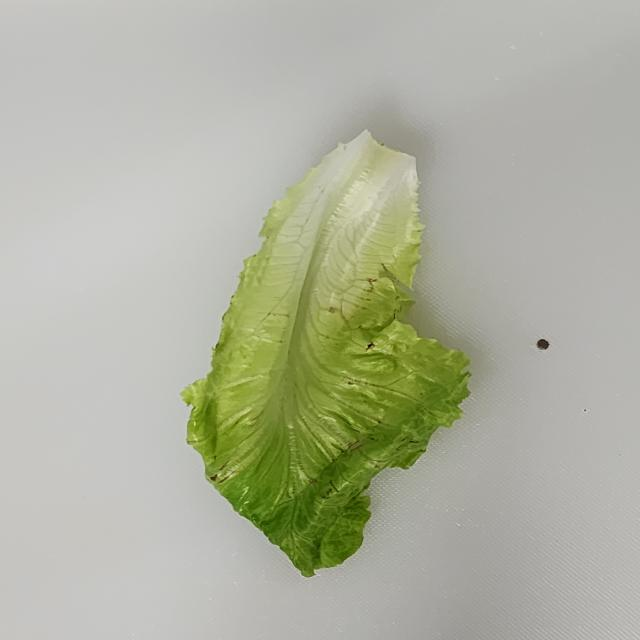lettuce: (180, 128, 473, 578)
